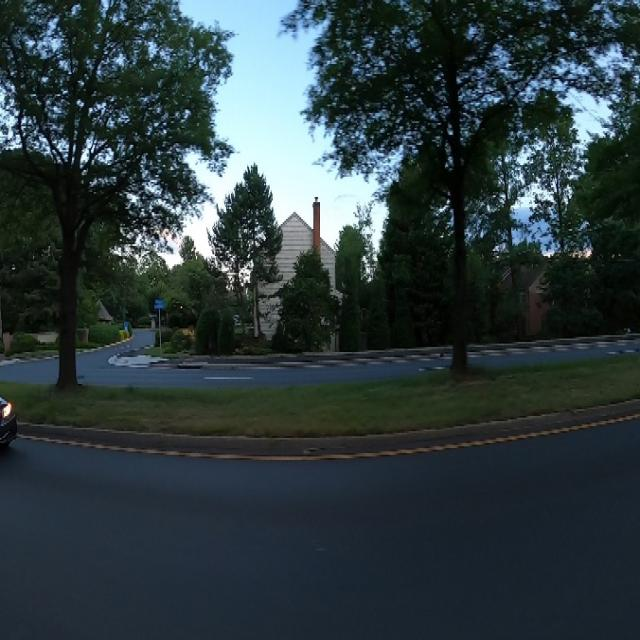cars: (0, 385, 21, 455)
